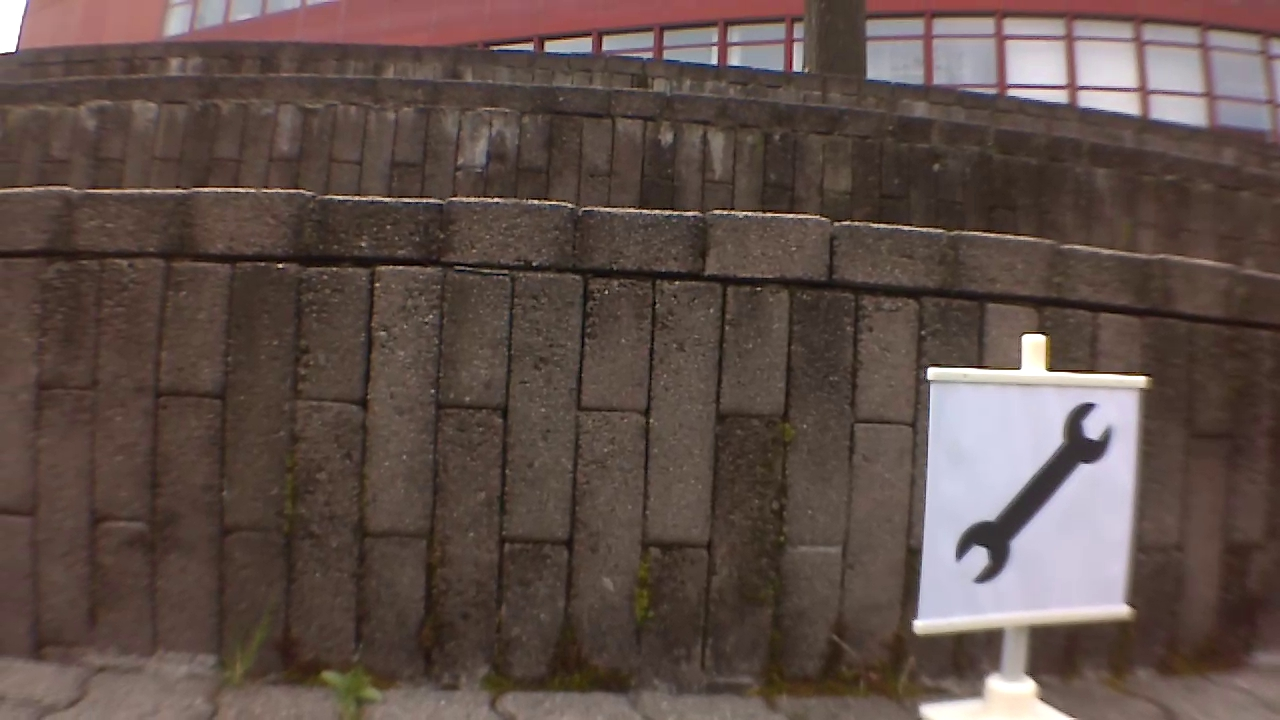wrench: (949, 399, 1120, 582)
